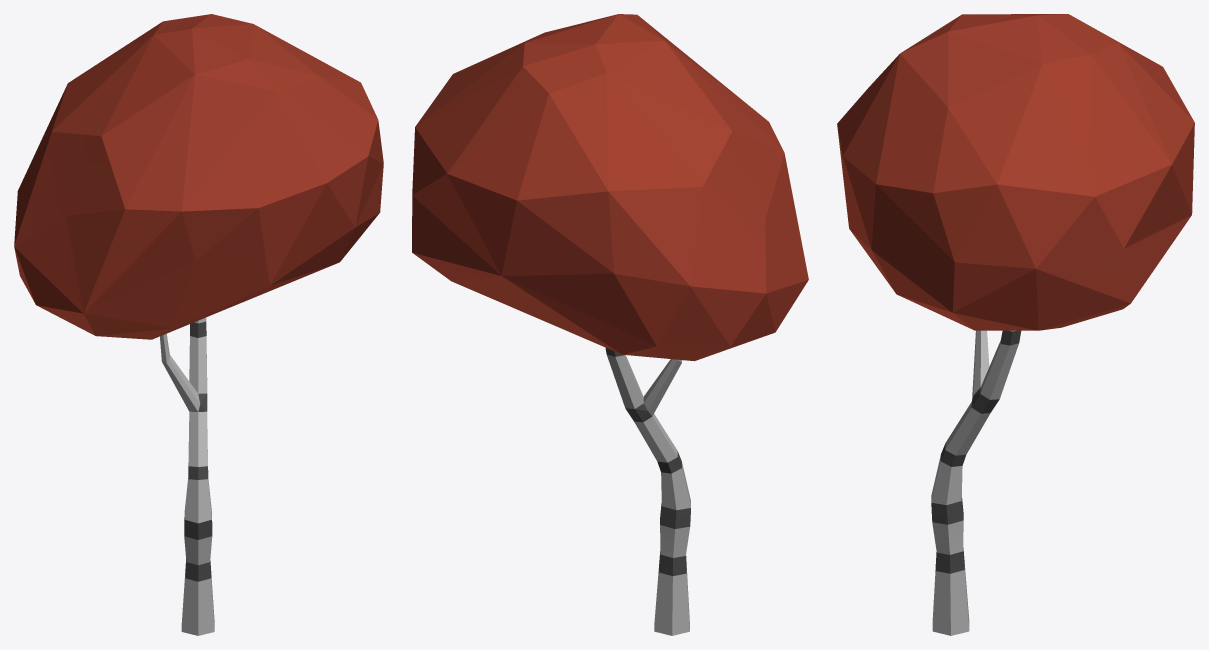
The model's file is birch_5.fbx.
3 renders of one model, left to right at view 1: azimuth 30°, elevation 25°; view 2: azimuth 150°, elevation 25°; view 3: azimuth 270°, elevation 25°, orthographic. The views are drawn at different scales.
Visible parts, largest first — view 1: birch_5; view 2: birch_5; view 3: birch_5.
Boxes of the visible parts, <box> form: birch_5: <box>14,14,383,635</box>; birch_5: <box>412,14,808,635</box>; birch_5: <box>837,14,1194,635</box>.
Size of the model in its own units: 417 by 674 by 347.
